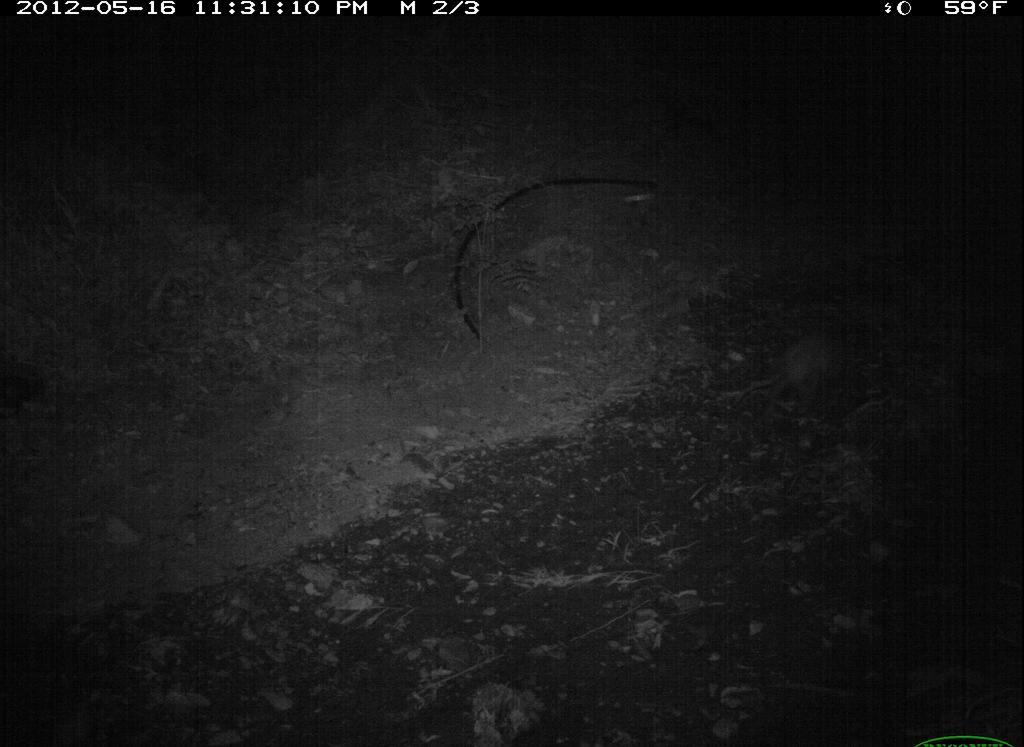opossum: (731, 319, 858, 414)
